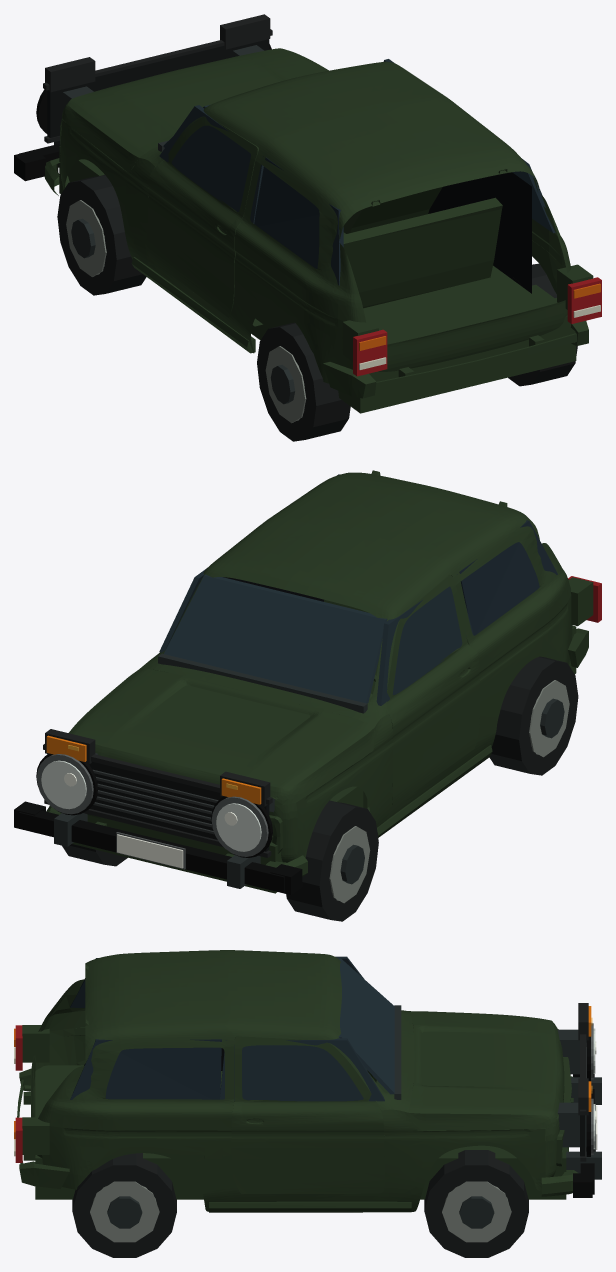
The model's file is niva_body_static.obj.
3 renders of one model, top to bottom at view 1: azimuth 30°, elevation 25°; view 2: azimuth 150°, elevation 25°; view 3: azimuth 270°, elevation 25°, orthographic. The views are drawn at different scales.
Parts seen in each view (by area): view 1: Niva_body_rebuilt_108, Niva_body_rebuilt_11, Niva_closed_underbody, Niva_rubber, Niva_body_rebuilt_110, Niva_cabin_shadow, Niva_solid_side_front_L, Niva_solid_side_rear_L, Niva_indicator_bezel, Niva_metal, Niva_grille, Niva_rear_lamps (+4 smaller); view 2: Niva_body_rebuilt_108, Niva_solid_windscreen, Niva_rubber, Niva_lamp_socket, Niva_solid_side_front_L, Niva_solid_side_rear_L, Niva_grille, Niva_indicator_bezel, Niva_headlights, Niva_body_rebuilt_110, Niva_metal, Niva_grille_bar (+8 smaller); view 3: Niva_body_rebuilt_108, Niva_rubber, Niva_solid_side_front_R, Niva_solid_side_rear_R, Niva_body_rebuilt_110, Niva_metal, Niva_closed_underbody, Niva_solid_windscreen, Niva_body_rebuilt_11, Niva_rear_lamp_mount, Niva_axle_mount, Niva_headlight_mount (+5 smaller).
Boxes of the visible parts, box(x1,y1,x2,y2) form: Niva_body_rebuilt_108: box(60, 48, 570, 383); Niva_body_rebuilt_11: box(148, 176, 565, 326); Niva_closed_underbody: box(59, 144, 576, 413); Niva_rubber: box(57, 175, 577, 441); Niva_body_rebuilt_110: box(44, 125, 588, 398); Niva_cabin_shadow: box(428, 172, 531, 293); Niva_solid_side_front_L: box(159, 105, 263, 223); Niva_solid_side_rear_L: box(254, 157, 343, 285); Niva_indicator_bezel: box(43, 14, 272, 143); Niva_metal: box(66, 200, 306, 423); Niva_grille: box(47, 39, 269, 137); Niva_rear_lamps: box(353, 277, 601, 376); Niva_body_rebuilt_108: box(68, 470, 572, 862); Niva_solid_windscreen: box(164, 574, 387, 703); Niva_rubber: box(62, 656, 578, 921); Niva_lamp_socket: box(14, 753, 302, 894); Niva_solid_side_front_L: box(376, 574, 473, 705); Niva_solid_side_rear_L: box(459, 520, 557, 635); Niva_grille: box(47, 754, 269, 851); Niva_indicator_bezel: box(43, 729, 272, 857); Niva_headlights: box(41, 760, 261, 851); Niva_body_rebuilt_110: box(46, 628, 588, 876); Niva_metal: box(329, 680, 569, 903); Niva_grille_bar: box(93, 769, 218, 834); Niva_body_rebuilt_108: box(31, 950, 564, 1211); Niva_rubber: box(72, 1150, 528, 1257); Niva_solid_side_front_R: box(220, 1038, 384, 1101); Niva_solid_side_rear_R: box(70, 1039, 221, 1099); Niva_body_rebuilt_110: box(17, 1057, 578, 1212); Niva_metal: box(90, 1181, 511, 1242); Niva_closed_underbody: box(35, 1065, 566, 1199); Niva_solid_windscreen: box(338, 958, 394, 1094); Niva_body_rebuilt_11: box(32, 988, 413, 1117); Niva_rear_lamp_mount: box(22, 1025, 49, 1154); Niva_axle_mount: box(107, 1196, 494, 1228); Niva_headlight_mount: box(557, 1029, 586, 1147).
Bounding box in the file's own units: 1.86 × 1.6 × 3.88.
